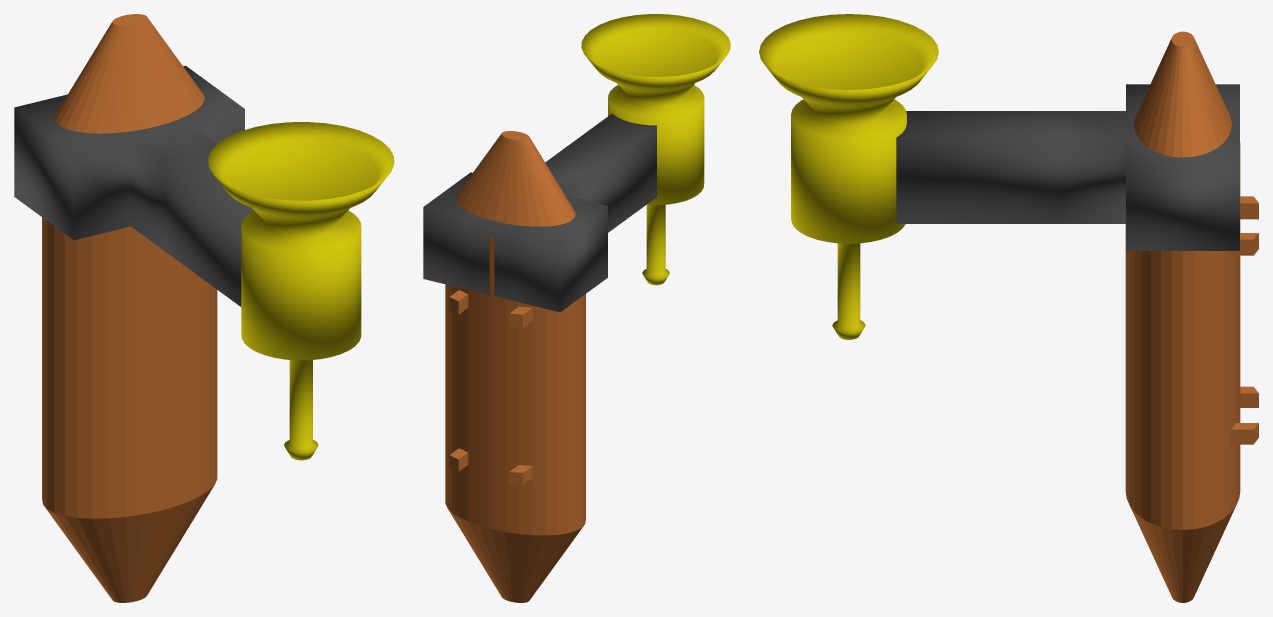
Rendered from candelabro1.glb.
3 views of the same model, side by side, from view 1: azimuth 30°, elevation 25°; view 2: azimuth 150°, elevation 25°; view 3: azimuth 270°, elevation 25° (orthographic). The views are drawn at different scales.
Visible parts, largest first — view 1: Cylinder, Cylinder.001, Cube; view 2: Cylinder, Cube, Cylinder.001; view 3: Cylinder, Cube, Cylinder.001.
Part boxes in pixels (x1,y1,x2,y2): Cylinder: [42, 14, 217, 602]; Cylinder.001: [208, 122, 394, 460]; Cube: [14, 65, 253, 306]; Cylinder: [445, 131, 585, 602]; Cube: [423, 113, 656, 312]; Cylinder.001: [581, 14, 730, 285]; Cylinder: [1125, 31, 1258, 602]; Cube: [896, 84, 1239, 250]; Cylinder.001: [759, 14, 938, 339].
Size of the model in its own units: 1.66 by 5.35 by 4.36.
